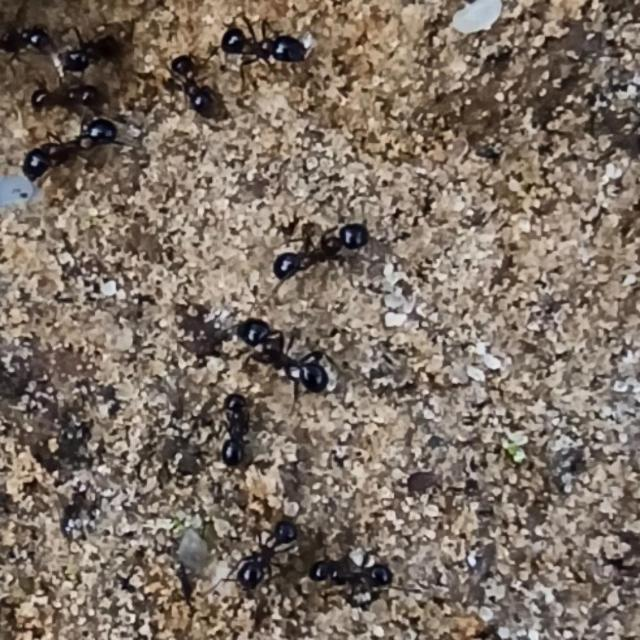Messor: (144, 30, 230, 130), (222, 0, 322, 80), (241, 308, 333, 394), (300, 538, 404, 606), (272, 210, 368, 278), (5, 124, 124, 178), (228, 518, 306, 592), (52, 18, 148, 78), (216, 390, 260, 492), (40, 78, 128, 125), (0, 14, 46, 66)
